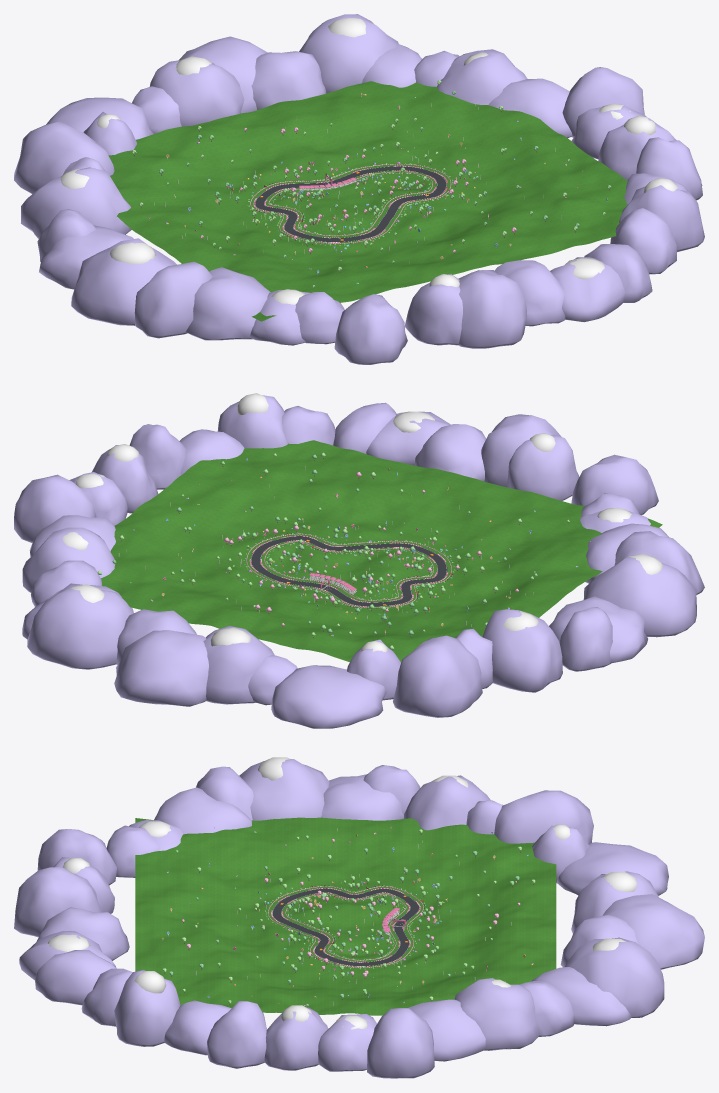
The model's file is caramelo.glb.
The picture shows the model from 3 angles, top to bottom: view 1: azimuth 30°, elevation 25°; view 2: azimuth 150°, elevation 25°; view 3: azimuth 270°, elevation 25°; orthographic projection. The views are drawn at different scales.
Visible parts, largest first — view 1: C_9e8cf2, Ground, White, Road, Rail, Curb, C_72e059, C_4cb259, C_59cc4c, C_ff8cbf; view 2: C_9e8cf2, Ground, White, Road, Rail, C_72e059, Curb, C_4cb259, C_ff8cbf, C_59cc4c; view 3: C_9e8cf2, Ground, White, Road, Rail, C_72e059, Curb, C_4cb259, C_59cc4c, C_ff8cbf.
Boxes of the visible parts, box(x1,y1,x2,y2) form: C_9e8cf2: box(14, 14, 704, 364); Ground: box(108, 81, 627, 321); White: box(60, 18, 677, 304); Road: box(254, 166, 446, 242); Rail: box(250, 164, 451, 243); Curb: box(154, 102, 561, 263); C_72e059: box(132, 80, 605, 270); C_4cb259: box(159, 91, 579, 263); C_59cc4c: box(166, 118, 611, 287); C_ff8cbf: box(200, 127, 516, 252); C_9e8cf2: box(14, 395, 704, 728); Ground: box(101, 440, 662, 662); White: box(62, 393, 662, 652); Road: box(250, 536, 447, 606); Rail: box(246, 533, 451, 608); C_72e059: box(97, 452, 521, 649); Curb: box(118, 466, 590, 630); C_4cb259: box(112, 454, 506, 634); C_ff8cbf: box(224, 472, 518, 625); C_59cc4c: box(170, 461, 569, 631); C_9e8cf2: box(14, 759, 704, 1078); Ground: box(135, 817, 556, 1015); White: box(48, 757, 637, 1029); Road: box(272, 888, 419, 966); Rail: box(268, 886, 423, 967); C_72e059: box(162, 829, 535, 1000); Curb: box(190, 827, 511, 1005); C_4cb259: box(169, 848, 519, 998); C_59cc4c: box(175, 835, 514, 1006); C_ff8cbf: box(181, 839, 520, 977).
Size of the model in its own units: 920 by 85.78 by 926.
42 materials, 10 textured.
